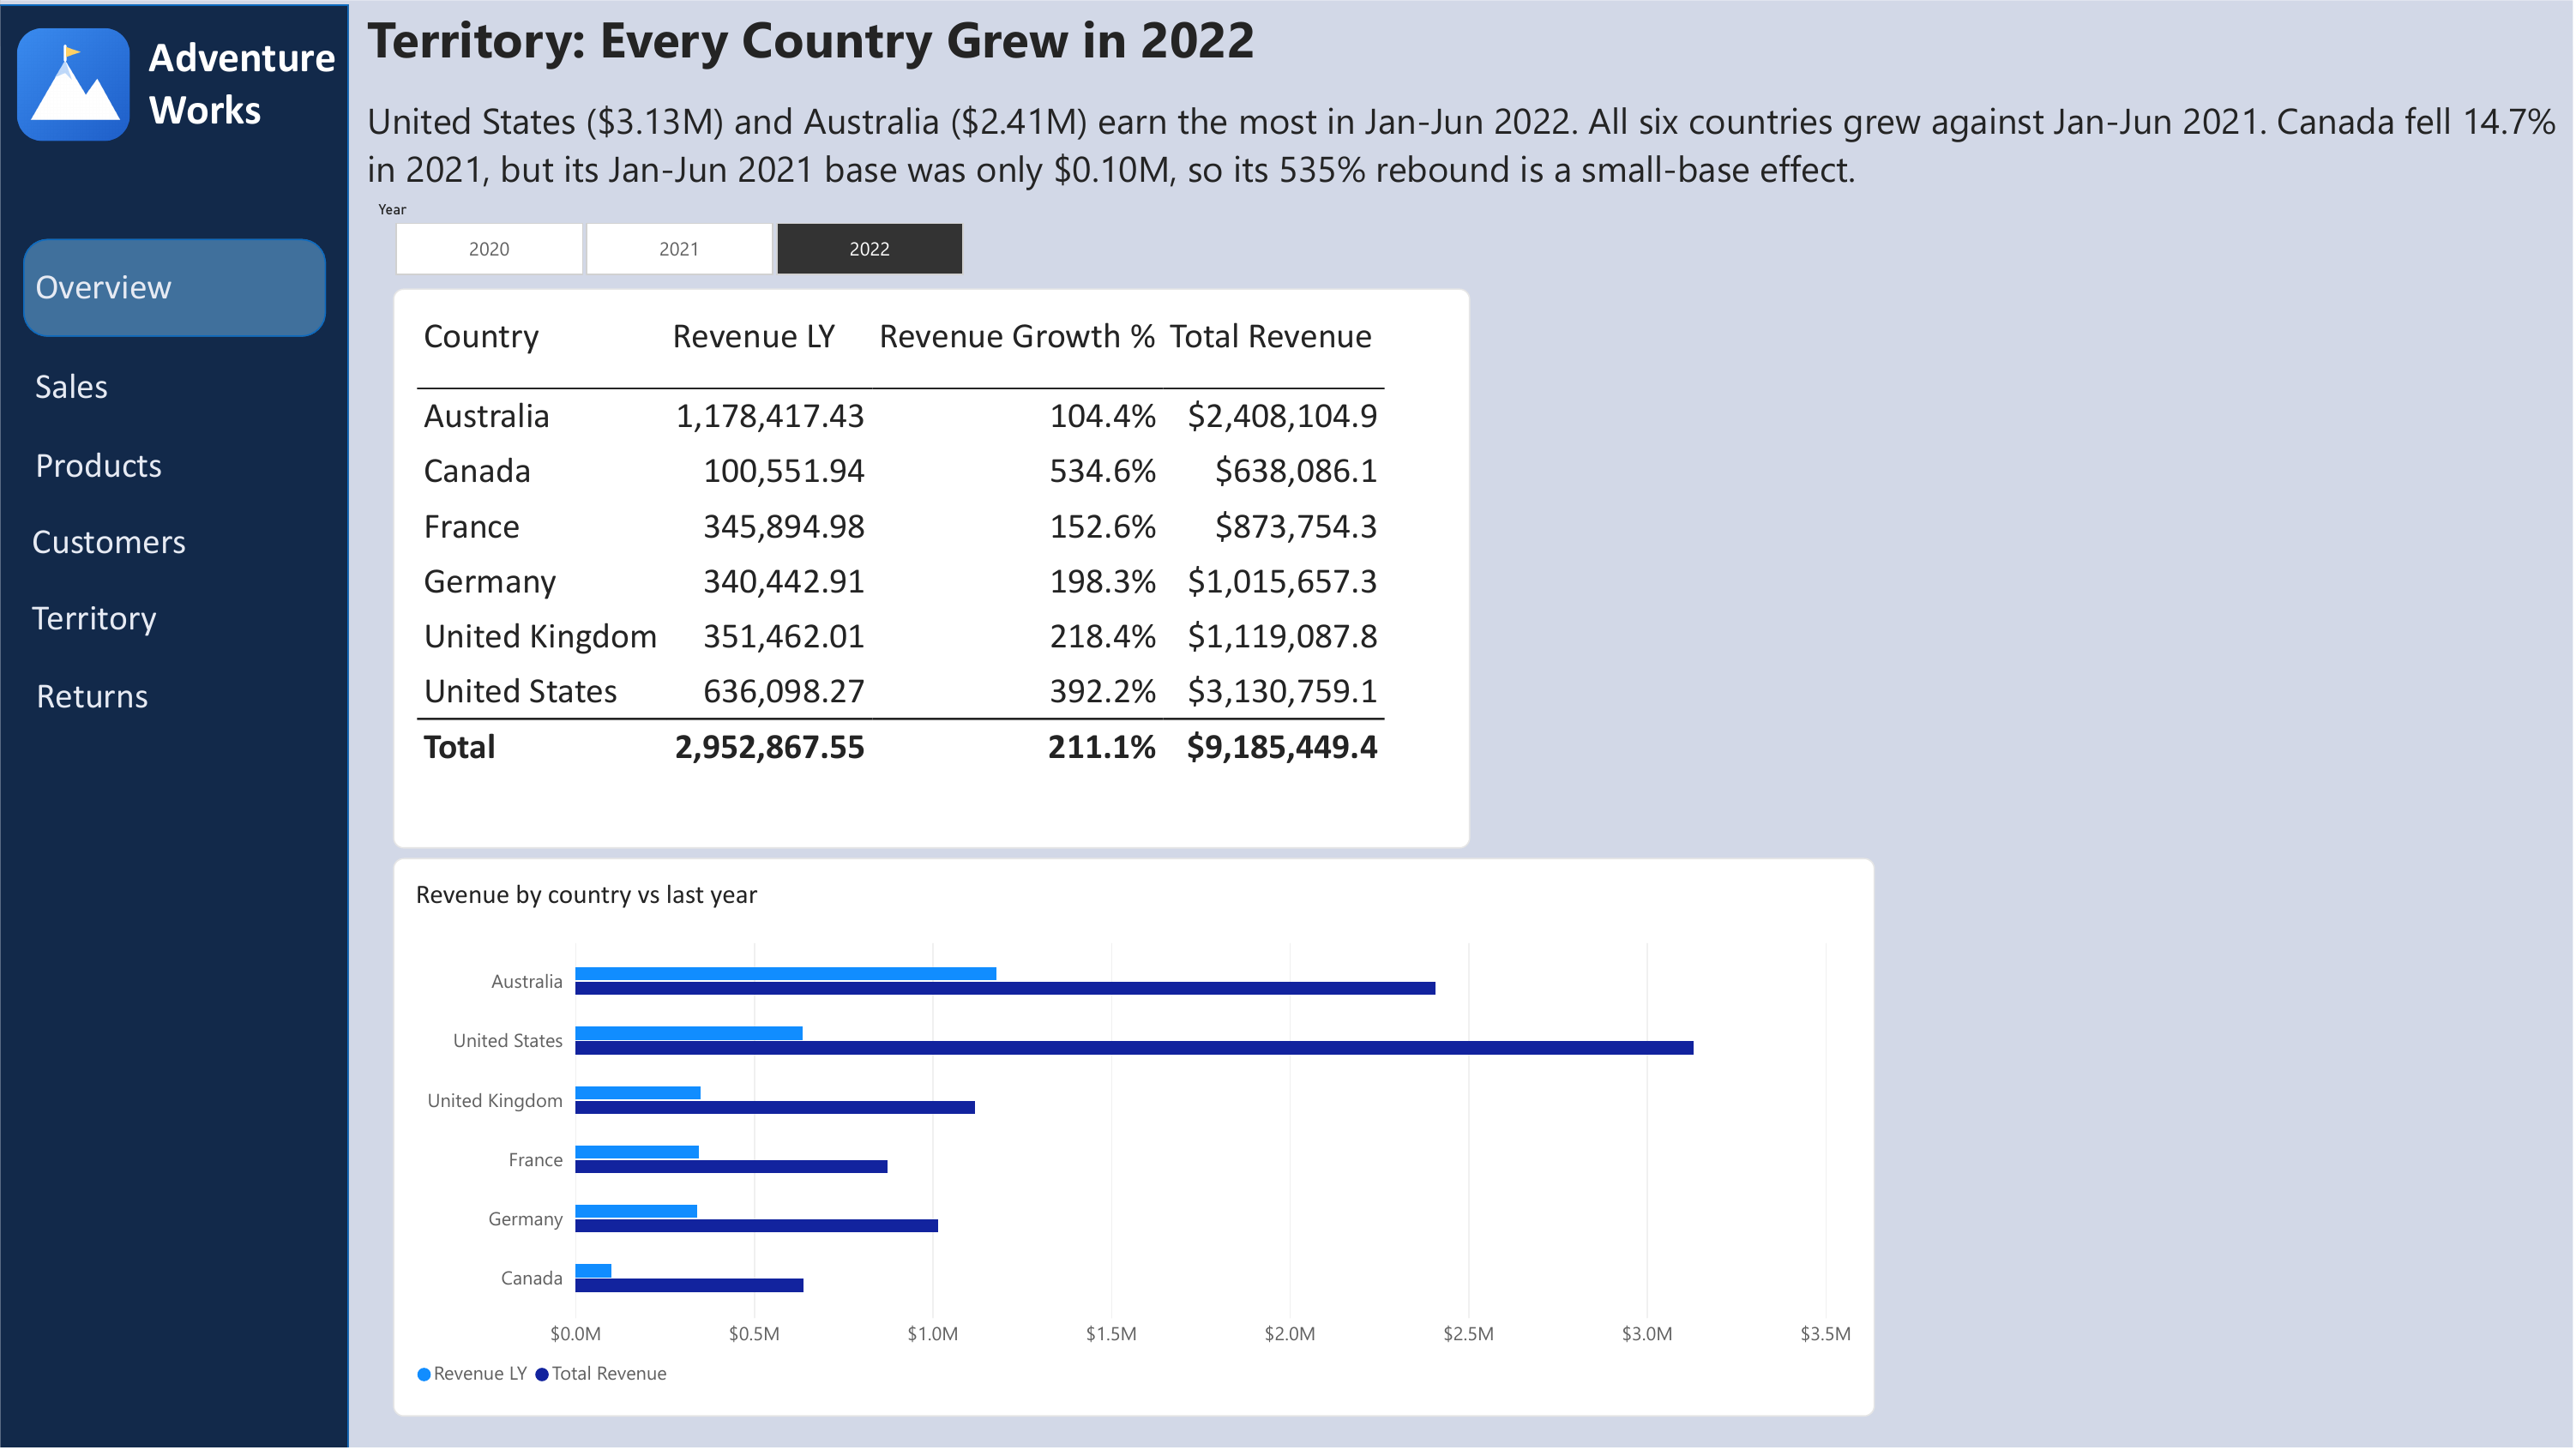

Layout of this report page (visuals, bound fields, positions):
{"tool":"powerbi","page":{"name":"Territory","canvas":[1920,1080],"ordinal":4},"visuals":[{"type":"tableEx","fields":{"Values":["dim_Territory.Country","fact_Sales.Revenue LY","fact_Sales.Revenue Growth %","fact_Sales.Total Revenue"]},"box":[293,214.5,804.1,418.6],"z":0},{"type":"slicer","fields":{"Values":["dim_Calendar.Year"]},"box":[273.8,150,464,56.9],"z":1000},{"type":"clusteredBarChart","title":"Revenue by country vs last year","fields":{"Category":["dim_Territory.Country"],"Y":["fact_Sales.Revenue LY","fact_Sales.Total Revenue"]},"box":[293,640.1,1105.8,416.9],"z":2000},{"type":"textbox","box":[273.8,3.5,1646.5,146.5],"z":3000},{"type":"shape","box":[-1,3.1,261.1,1080],"z":3001},{"type":"textbox","box":[111,23.1,253,150],"z":3002},{"type":"image","box":[11,19.1,86.7,86.7],"z":3003},{"type":"shape","box":[16.8,177.7,226.5,72.9],"z":3004},{"type":"textbox","box":[26,198,301,63.4],"z":3005},{"type":"textbox","box":[26,272.4,301,36.4],"z":3006},{"type":"textbox","box":[24.4,445.1,196.4,33.3],"z":3007},{"type":"textbox","box":[24.4,388.1,213.9,34.9],"z":3008},{"type":"textbox","box":[26,331.1,299.4,42.8],"z":3009},{"type":"textbox","box":[27.4,503.1,102.5,32.5],"z":3010},{"type":"actionButton","box":[23.3,265.8,69.2,40],"z":3011},{"type":"actionButton","box":[25,328.3,107.5,42.5],"z":3012},{"type":"actionButton","box":[25,389.2,118.3,40],"z":3013},{"type":"actionButton","box":[25,438.3,99.2,40],"z":3014},{"type":"actionButton","box":[26.7,490,100,50],"z":3015},{"type":"actionButton","box":[18.4,170.8,202.7,77],"z":3016}]}

Visuals, with their boxes on the page's 1920x1080 design canvas (x1, y1, x2, y2). These are canvas units, not pixel positions in the 2576x1450 screenshot, which may show the page scaled, cropped or inside an application window:
tableEx - dim_Territory.Country x fact_Sales.Revenue LY: BBox(293, 214, 1097, 633)
slicer - dim_Calendar.Year: BBox(274, 150, 738, 207)
"Revenue by country vs last year" clusteredBarChart: BBox(293, 640, 1399, 1057)
textbox: BBox(274, 4, 1920, 150)
shape: BBox(-1, 3, 260, 1083)
textbox: BBox(111, 23, 364, 173)
image: BBox(11, 19, 98, 106)
shape: BBox(17, 178, 243, 251)
textbox: BBox(26, 198, 327, 261)
textbox: BBox(26, 272, 327, 309)
textbox: BBox(24, 445, 221, 478)
textbox: BBox(24, 388, 238, 423)
textbox: BBox(26, 331, 325, 374)
textbox: BBox(27, 503, 130, 536)
actionButton: BBox(23, 266, 92, 306)
actionButton: BBox(25, 328, 132, 371)
actionButton: BBox(25, 389, 143, 429)
actionButton: BBox(25, 438, 124, 478)
actionButton: BBox(27, 490, 127, 540)
actionButton: BBox(18, 171, 221, 248)
